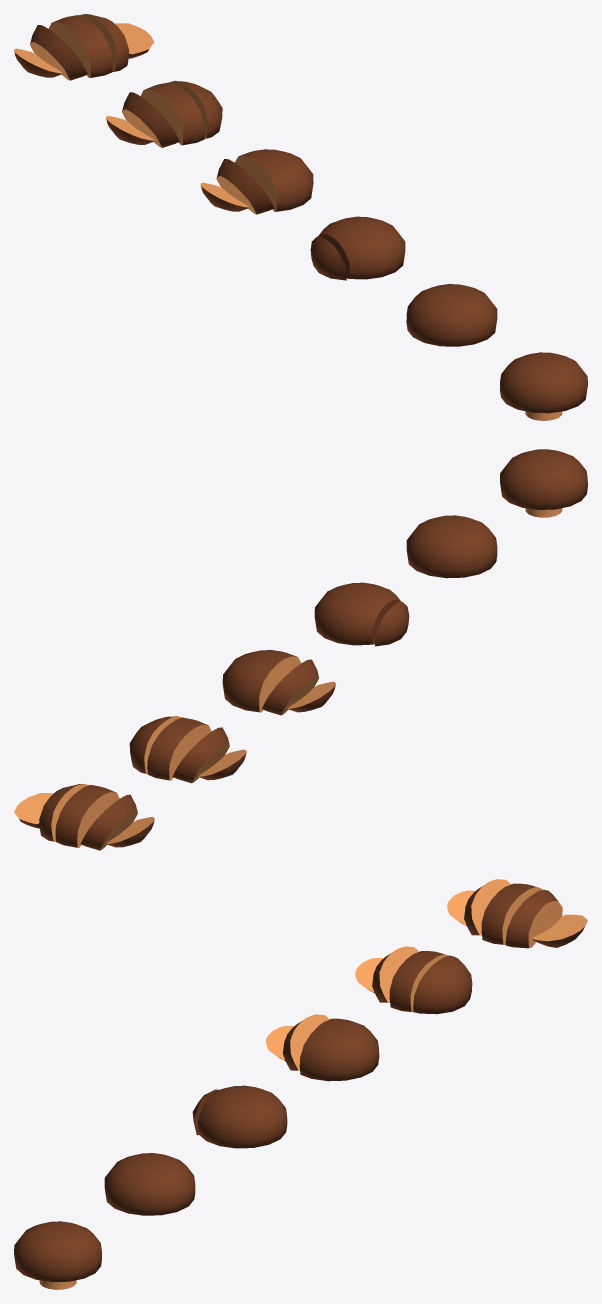
Rendered from Mushroom.fbx.
The picture shows the model from 3 angles, top to bottom: view 1: azimuth 30°, elevation 25°; view 2: azimuth 150°, elevation 25°; view 3: azimuth 330°, elevation 25°; orthographic projection.
Visible parts, largest first — view 1: Mushroom slice 5, Mushroom slice 4, Mushroom slice 3, Mushroom slice 2, Mushroom slice 1, Mushroom slice 0; view 2: Mushroom slice 5, Mushroom slice 4, Mushroom slice 3, Mushroom slice 2, Mushroom slice 1, Mushroom slice 0; view 3: Mushroom slice 5, Mushroom slice 4, Mushroom slice 3, Mushroom slice 2, Mushroom slice 1, Mushroom slice 0.
Boxes of the visible parts, x1,y1,x2,y2 form: Mushroom slice 5: (14,14,154,80); Mushroom slice 4: (106,80,222,147); Mushroom slice 3: (200,149,313,214); Mushroom slice 2: (310,216,405,280); Mushroom slice 1: (406,284,497,346); Mushroom slice 0: (500,352,587,420); Mushroom slice 5: (14,784,154,850); Mushroom slice 4: (129,716,246,783); Mushroom slice 3: (222,650,335,715); Mushroom slice 2: (314,582,409,646); Mushroom slice 1: (406,515,497,578); Mushroom slice 0: (500,449,587,517); Mushroom slice 5: (447,879,587,948); Mushroom slice 4: (355,946,472,1014); Mushroom slice 3: (266,1014,379,1081); Mushroom slice 2: (192,1085,287,1148); Mushroom slice 1: (104,1153,195,1215); Mushroom slice 0: (14,1221,101,1289).
Bounding box in the file's own units: 7.89 × 3.25 × 54.91.
